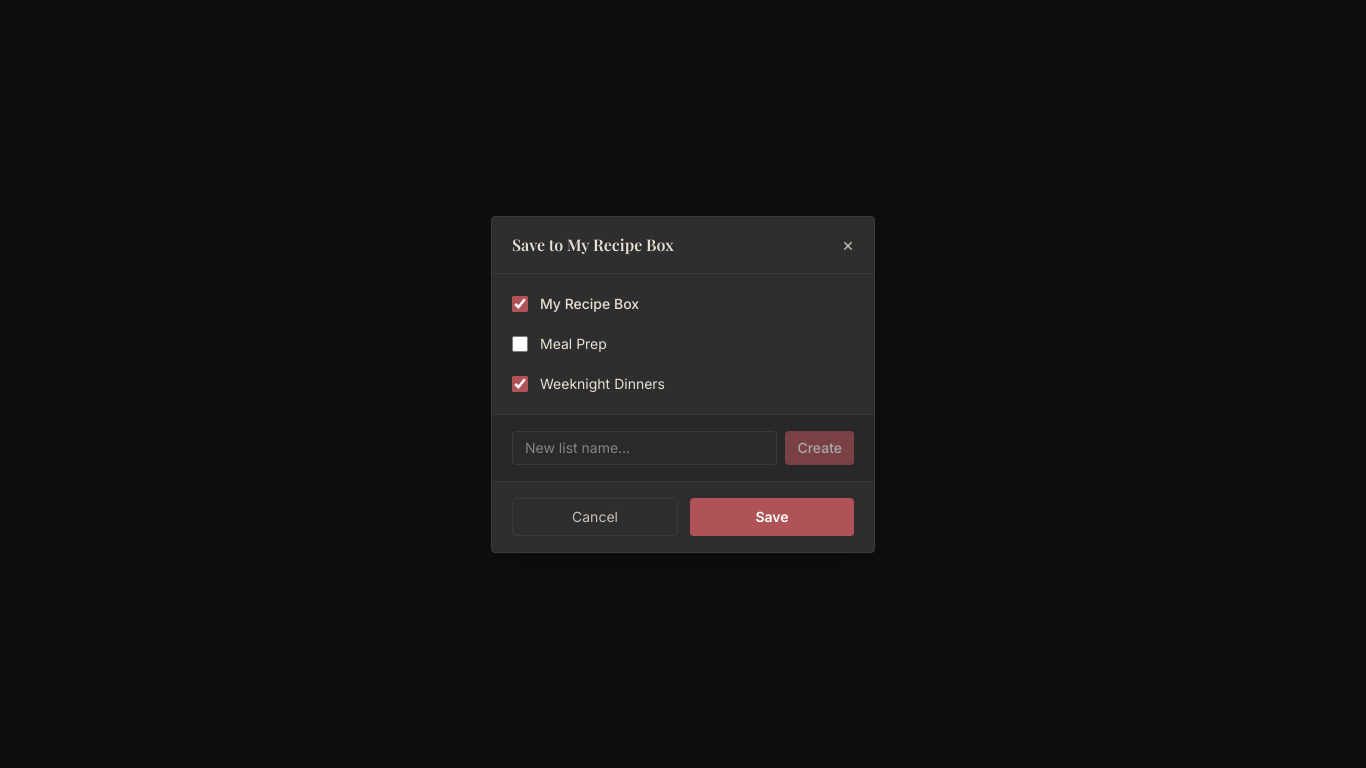
Test: SaveToBoxModal › re-checking liked restores sub-boxes to initial state
Uncheck then re-check
Click the checkbox labelled "My Recipe Box".
click(520, 304)  # box [512,296,528,312]
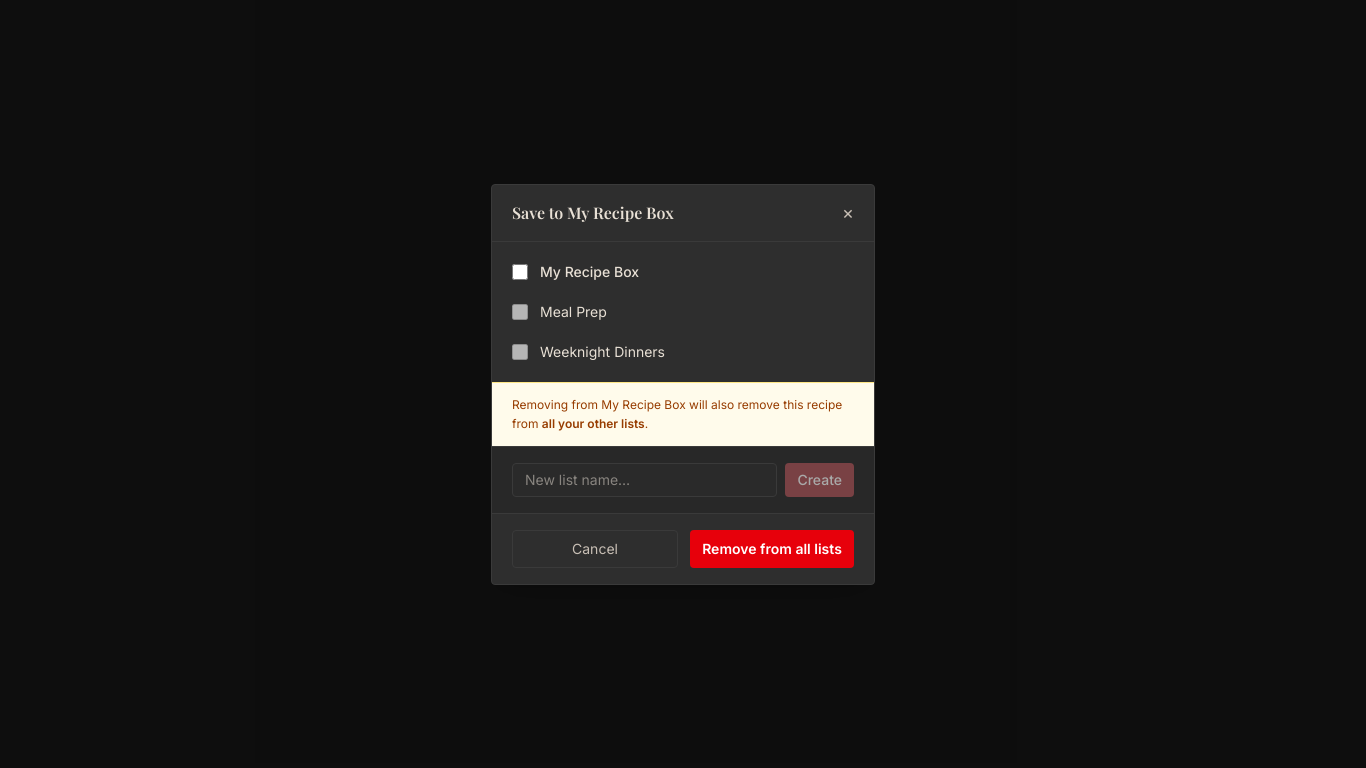
Click the checkbox labelled "My Recipe Box".
click(520, 272)  # box [512,264,528,280]
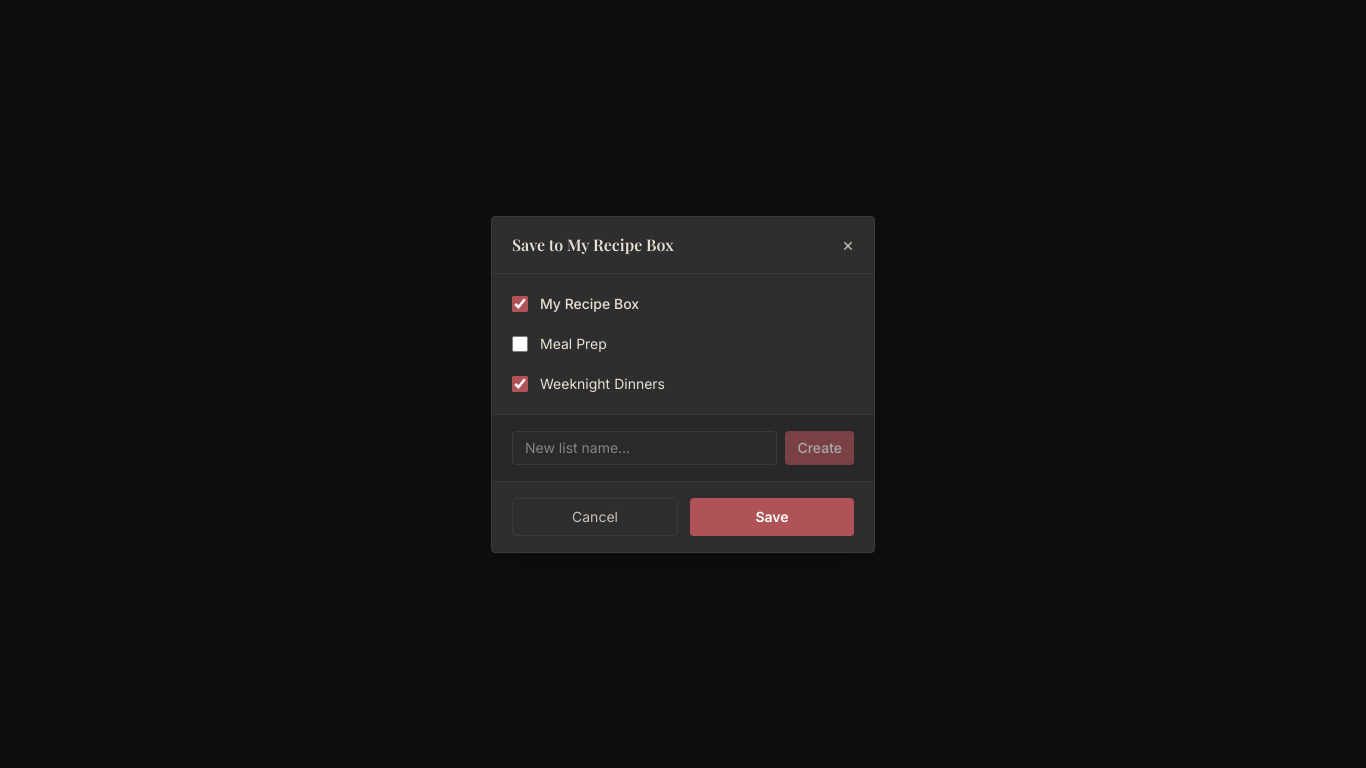
Now the checkbox labelled "Weeknight Dinners" is checked, box [512,376,528,392]
